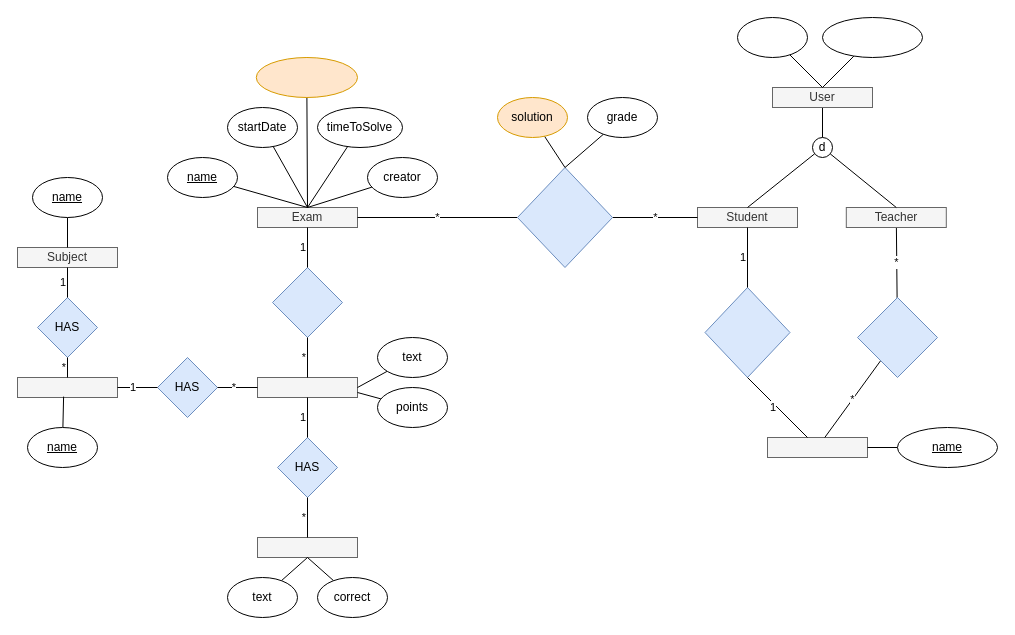
The diagram is 1015 pixels wide and 635 high, and some of its shapes have lost their labels. Here are the shapes that lost their labels. From the top down, the box of each, then its label:
(736, 16, 808, 58): email
(822, 16, 922, 58): passwordHash
(255, 56, 358, 98): gradeBoundaries
(516, 166, 612, 268): SOLVES (Stu -> Exam)
(272, 266, 342, 338): CONTAINS
(704, 286, 790, 378): STUDIES_IN
(856, 296, 938, 378): TEACHES
(16, 376, 118, 398): Theme
(256, 376, 358, 398): Question
(766, 436, 868, 458): Specialty
(256, 536, 358, 558): Answer
